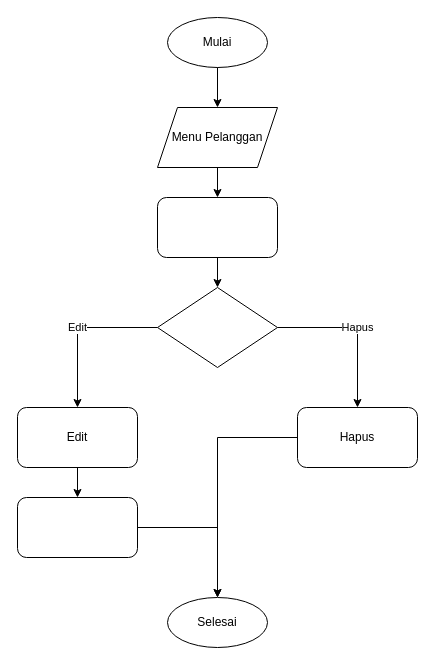
Image size: 435x665. Some labels were removed from this diagram. Here are the shapes that lost their labels. From the top down, the centre of each, then its label:
At [217,227]: "Lihat Daftar Pelanggan".
At [217,327]: "Aksi?".
At [77,527]: "Update DB".
